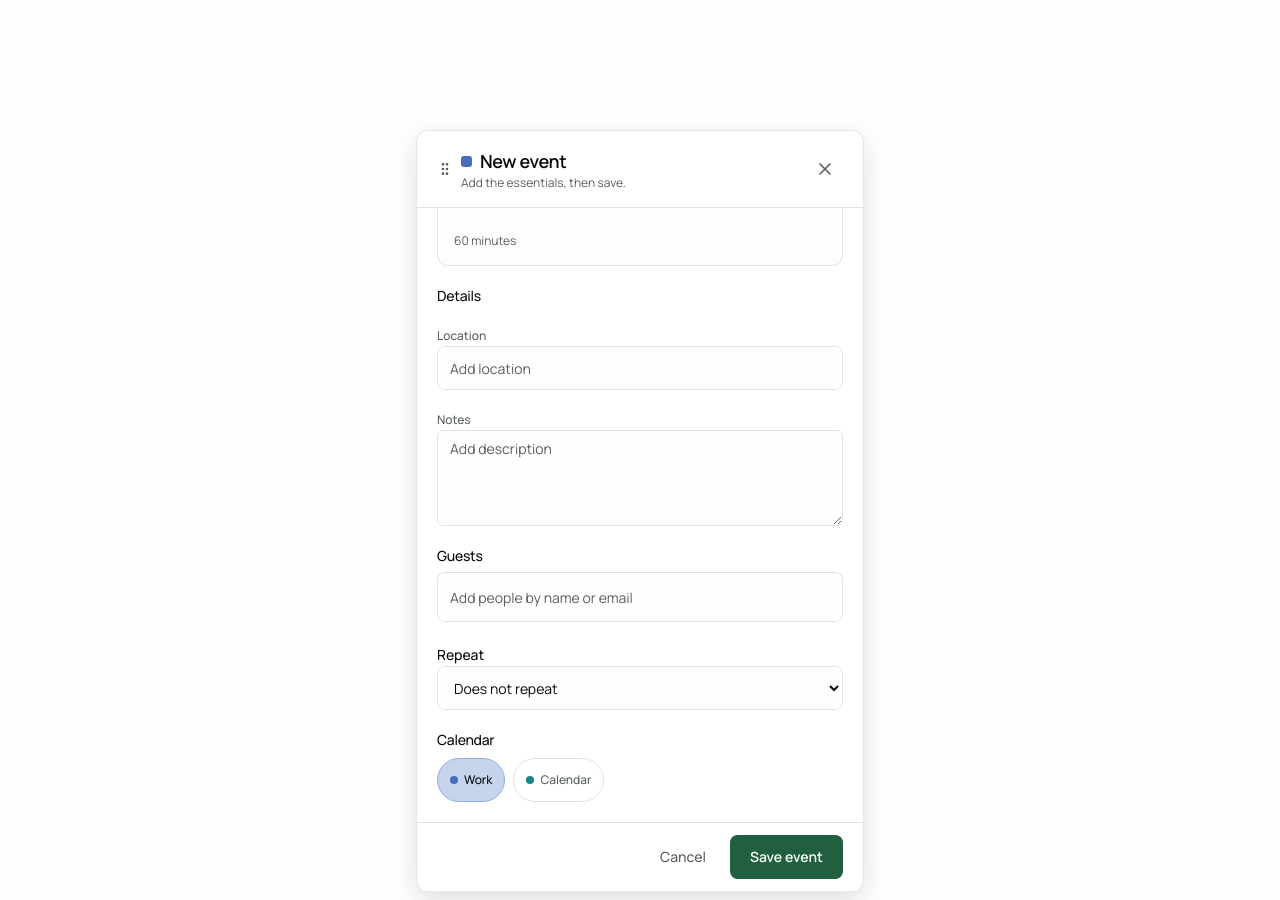
EventModal — new event › requires an explicitly selected recurrence schedule to include the event date weekday
The width and height of the screenshot is (1280, 900).
(page scrolled)
Step 1. Select "Weekly" in the dropdown labelled "Repeat" → (640, 688), box [437,666,843,710]
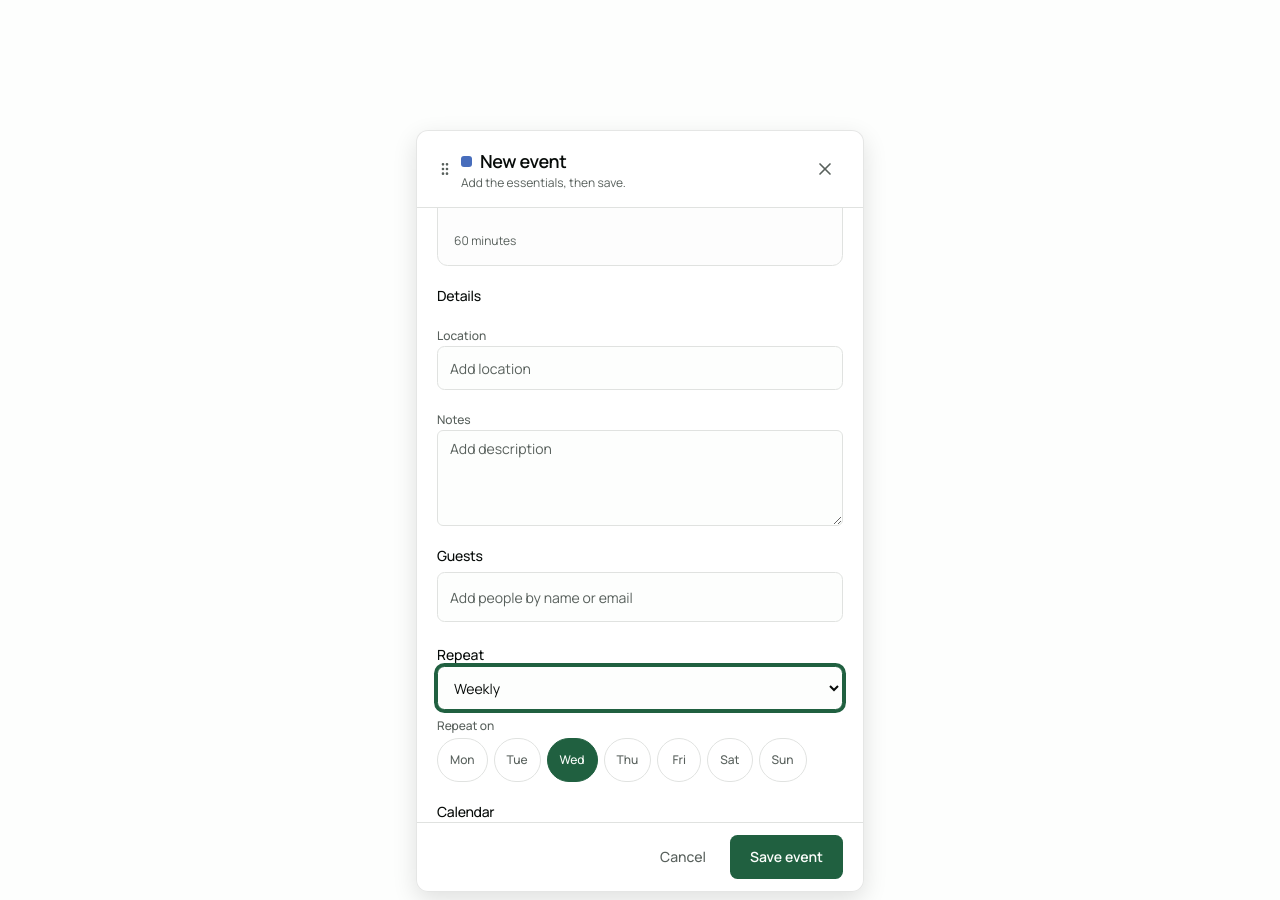
Step 2. Click the button "Wed" → (572, 760), box [547,738,598,782]
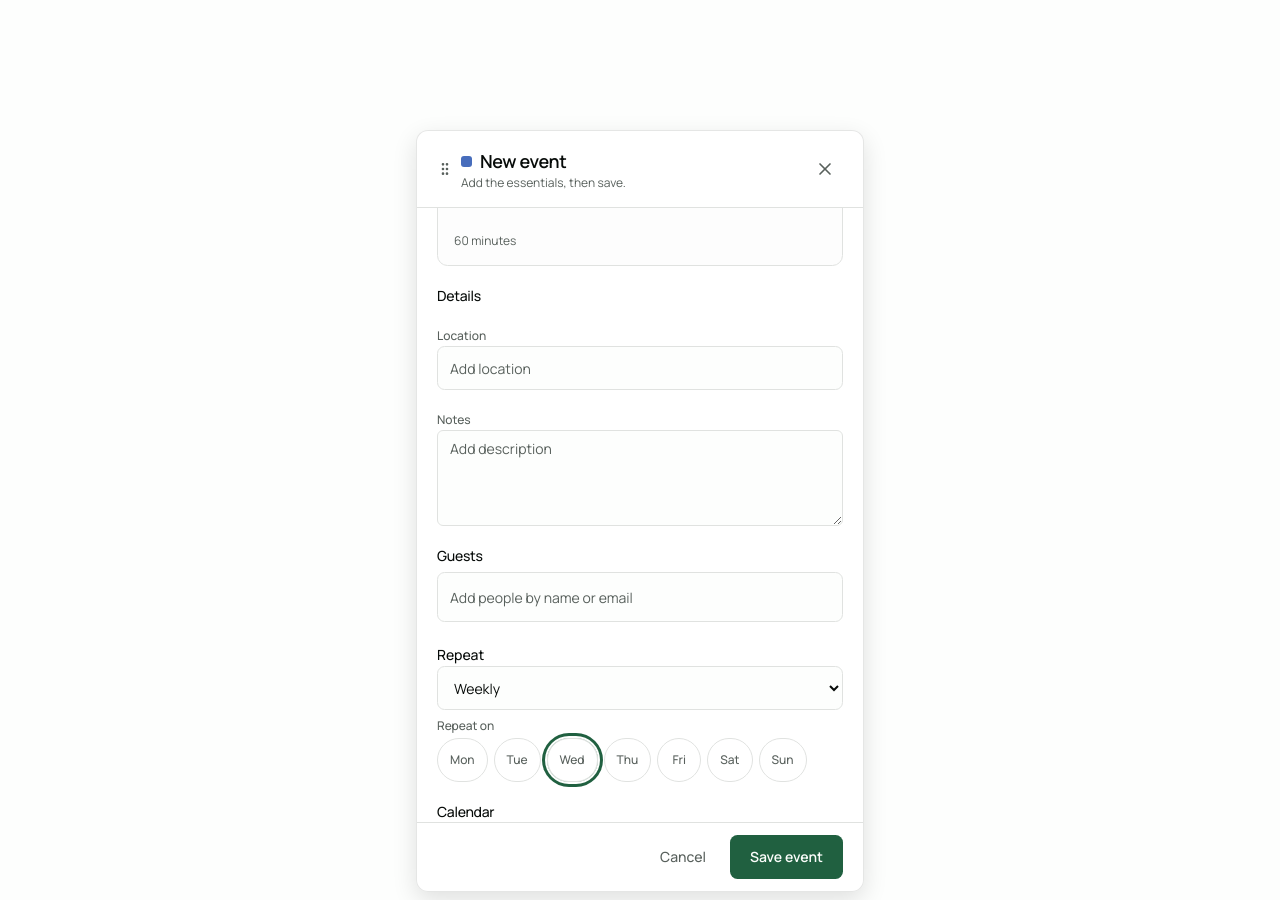
Step 3. Click the button "Mon" → (462, 760), box [437,738,488,782]
(page scrolled)
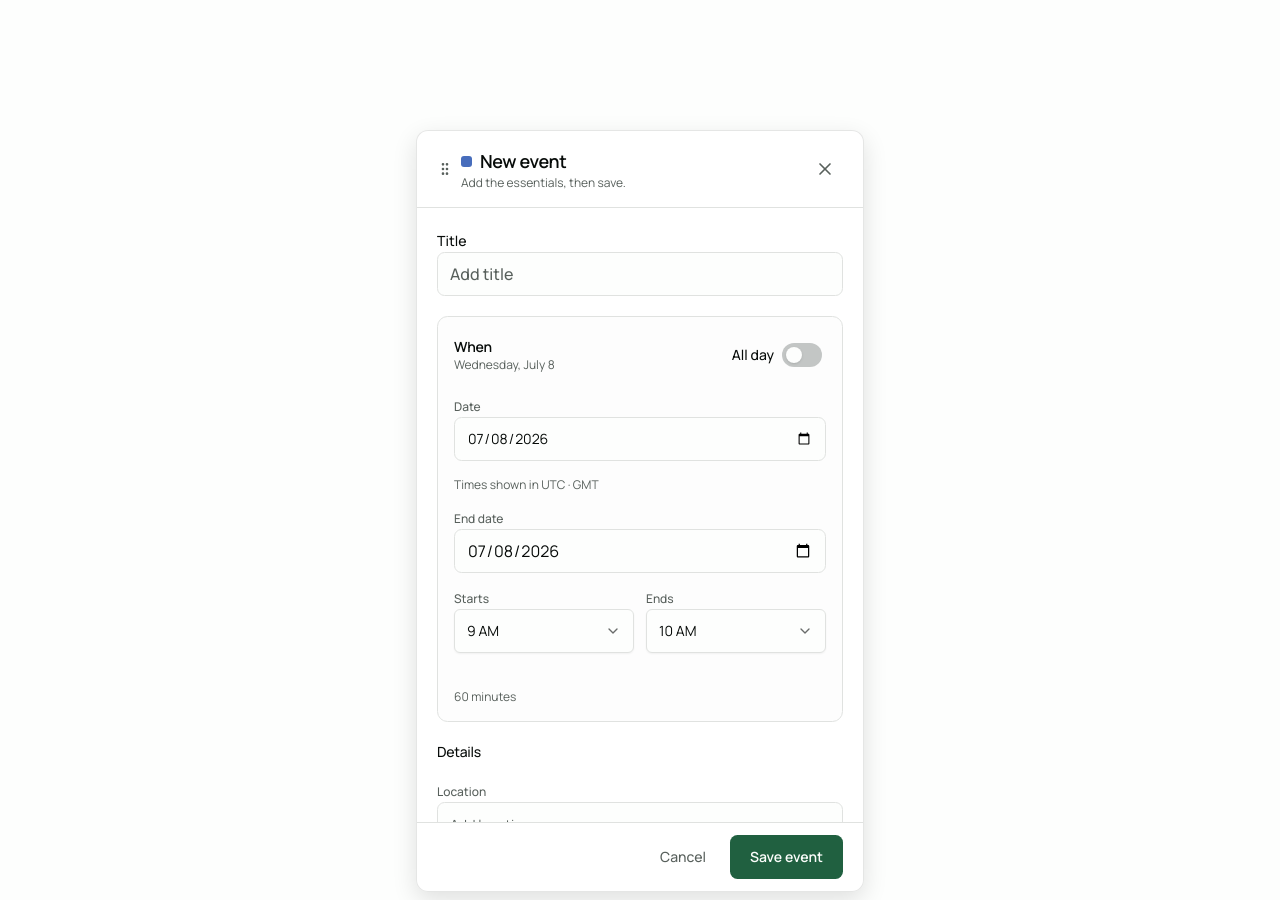
Step 4. Type "2026-07-10" into the date field named "Event date" → (640, 439), box [454,417,826,461]
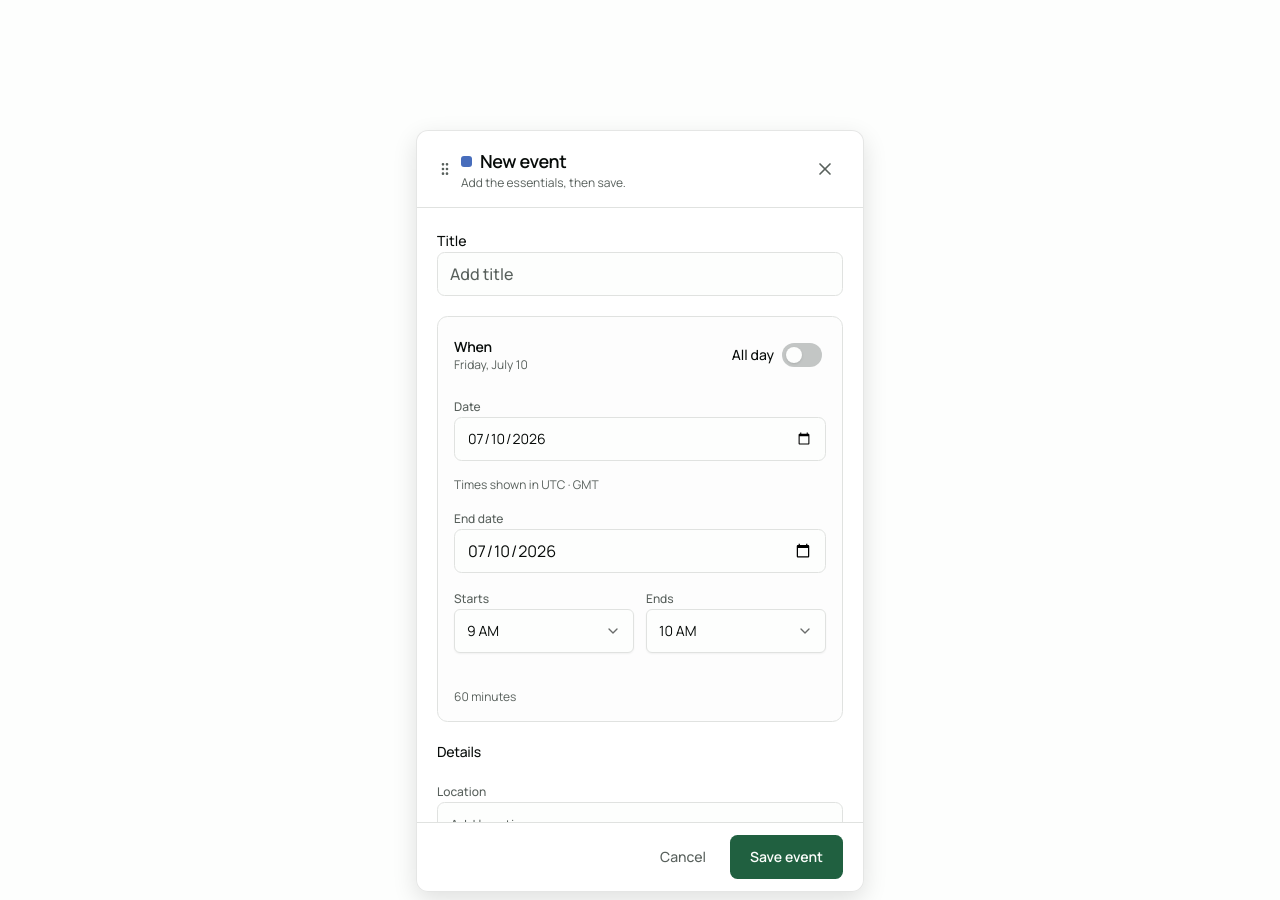
Step 5. Click the button "Save event" → (786, 857), box [730,835,843,879]
(page scrolled)
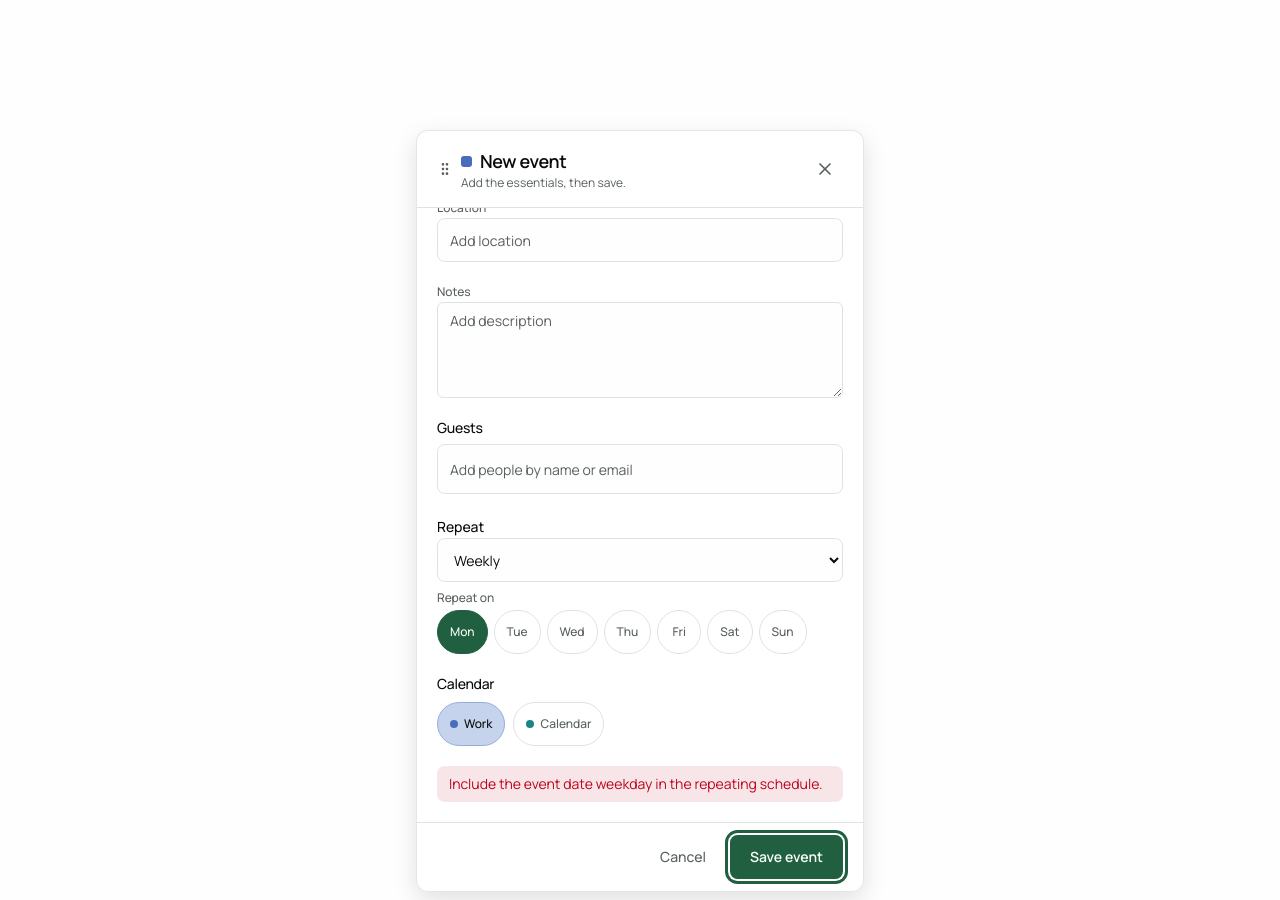
Now the text "Include the event date weekday in the repeating schedule." is shown, box [437,766,843,802]
